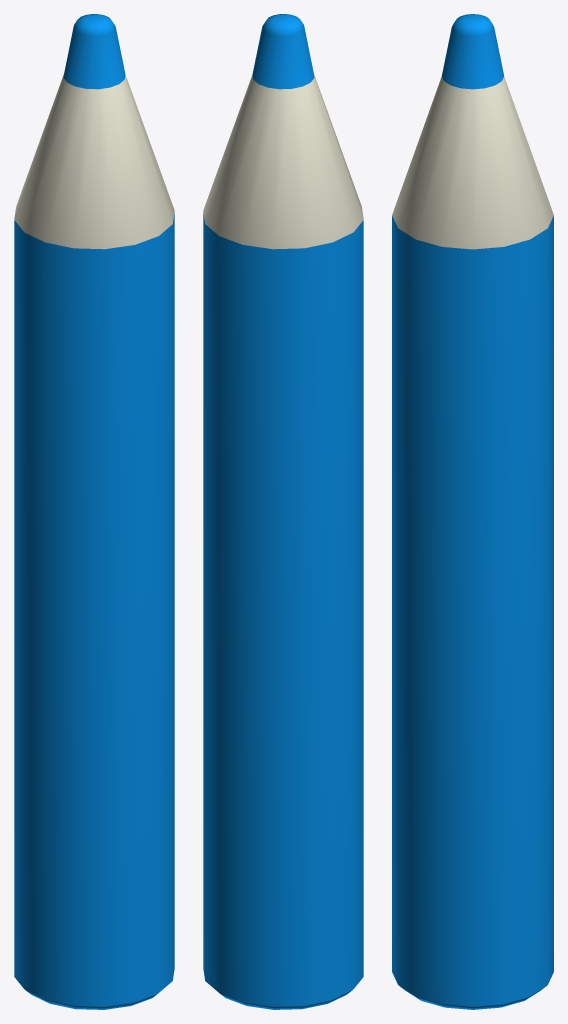
The model's file is Public_8_Pencil_2.glb.
3 renders of one model, left to right at view 1: azimuth 30°, elevation 25°; view 2: azimuth 150°, elevation 25°; view 3: azimuth 270°, elevation 25°, orthographic.
Parts seen in each view (by area): view 1: Public_8_Pencil_2; view 2: Public_8_Pencil_2; view 3: Public_8_Pencil_2.
Part boxes in pixels (bbox=[...]): Public_8_Pencil_2: bbox=[14, 14, 174, 1009]; Public_8_Pencil_2: bbox=[203, 14, 363, 1009]; Public_8_Pencil_2: bbox=[392, 14, 553, 1009].
Size of the model in its own units: 0.1578 by 1.03 by 0.1578.
Materials: 1 (1 with a texture image).
